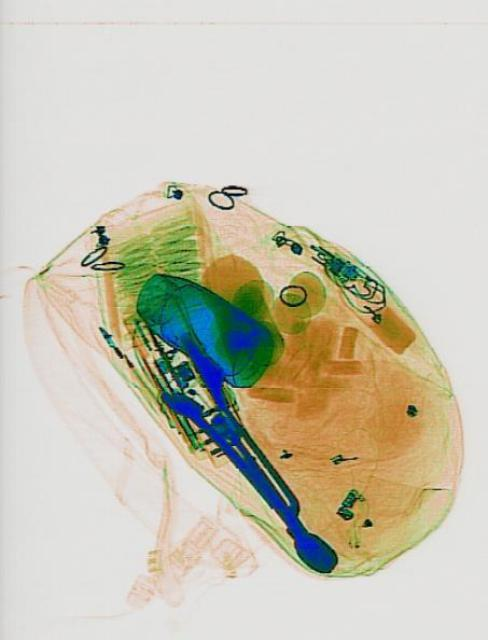Wrench: (152, 373, 340, 582)
